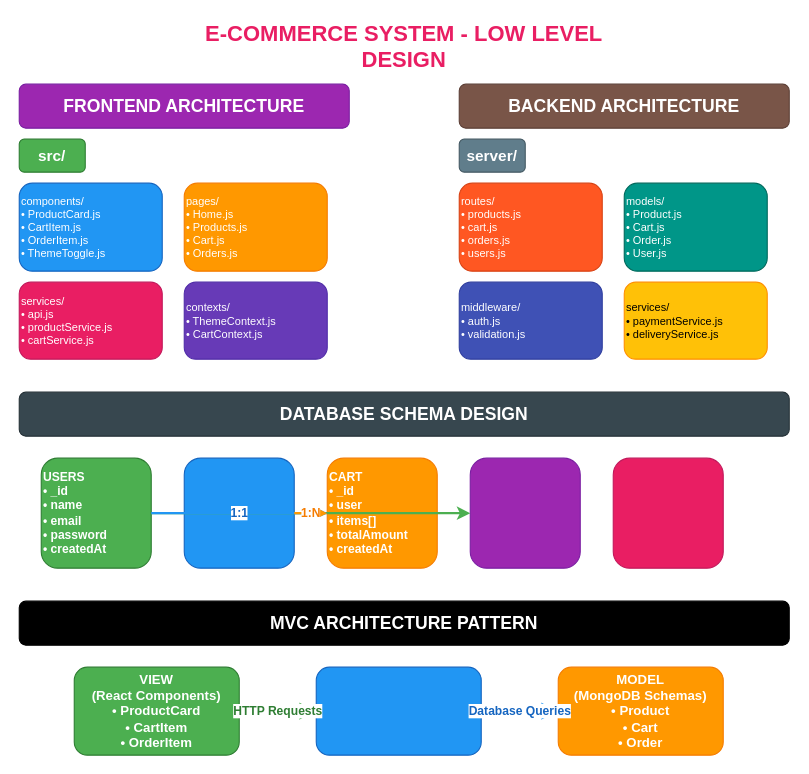
The diagram is 809 pixels wide and 774 high, and some of its shapes have lost their labels. The box of each missing label's shape, as (x1, y1, x2, y2) in pixels:
CONTROLLER (Express Routes) • productRoutes • cartRoutes • orderRoutes: (315, 666, 481, 755)
ORDERS • _id • user • orderItems[] • totalPrice • status: (469, 457, 580, 568)
PAYMENTS • _id • orderId • amount • status • method: (612, 457, 723, 568)
PRODUCTS • _id • name • price • category • stock • image: (183, 457, 294, 568)
